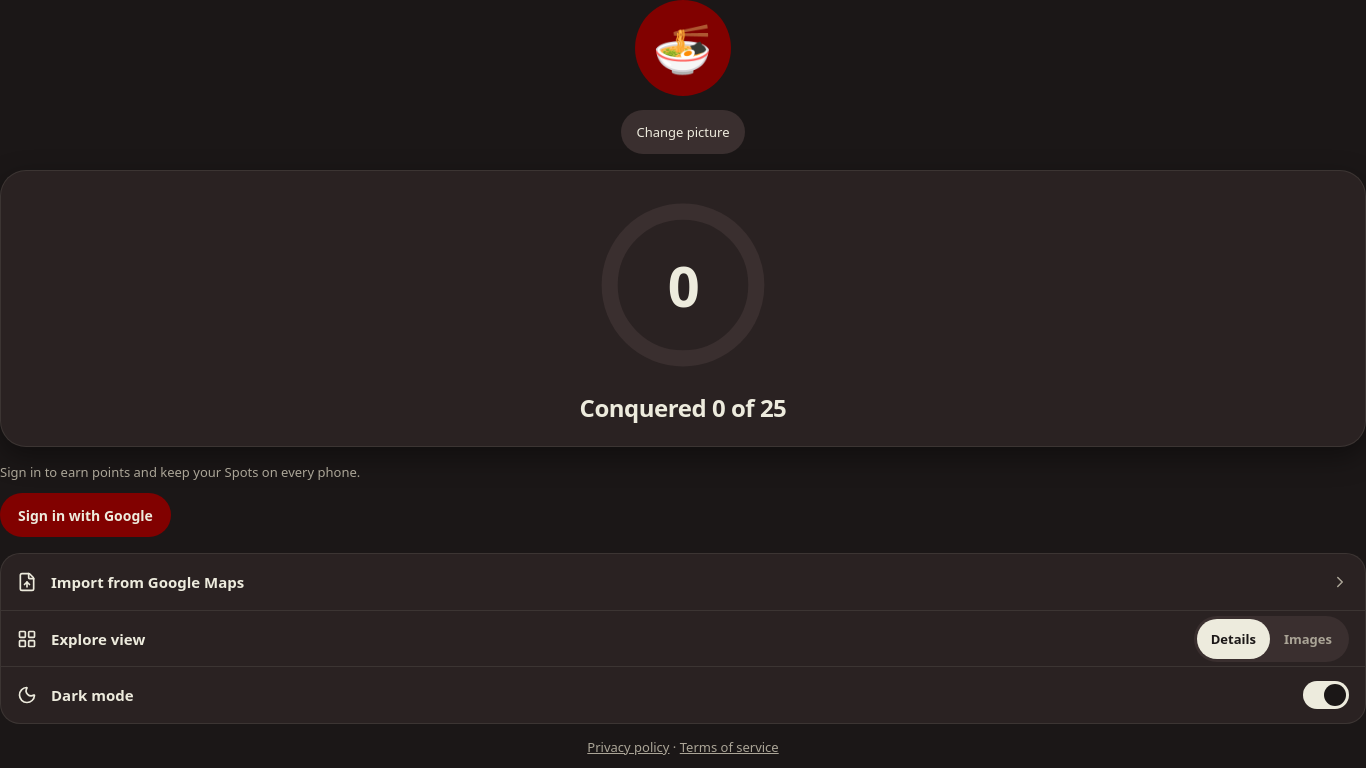
Scenario: the menu card › Dark mode is a switch: on by default, and pressing it turns it off and remembers light
This screenshot has width=1366, height=768.
(page scrolled)
Click the switch labelled "Dark mode" at point(92, 695), box [1, 667, 1365, 723]
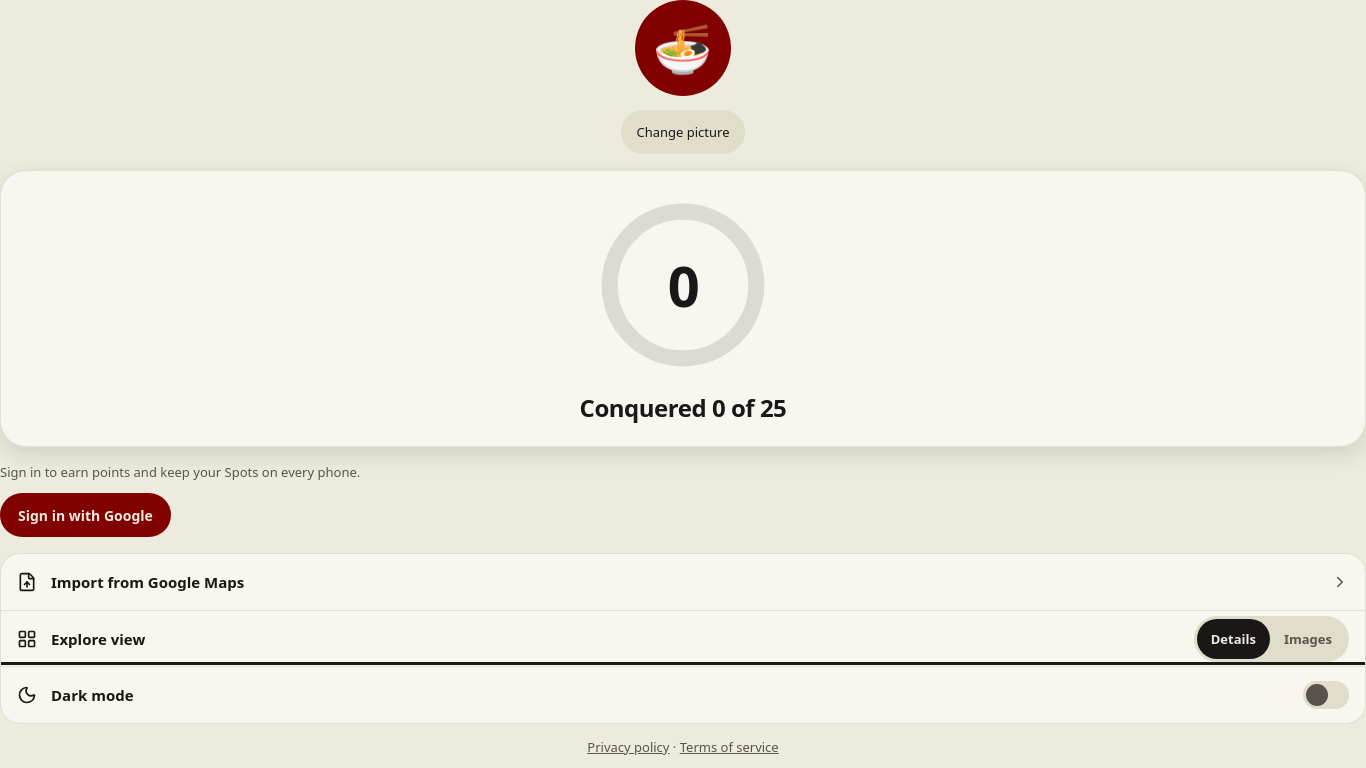
Expected: the switch labelled "Dark mode" is not checked
Click the switch labelled "Dark mode" at point(92, 695), box [1, 667, 1365, 723]
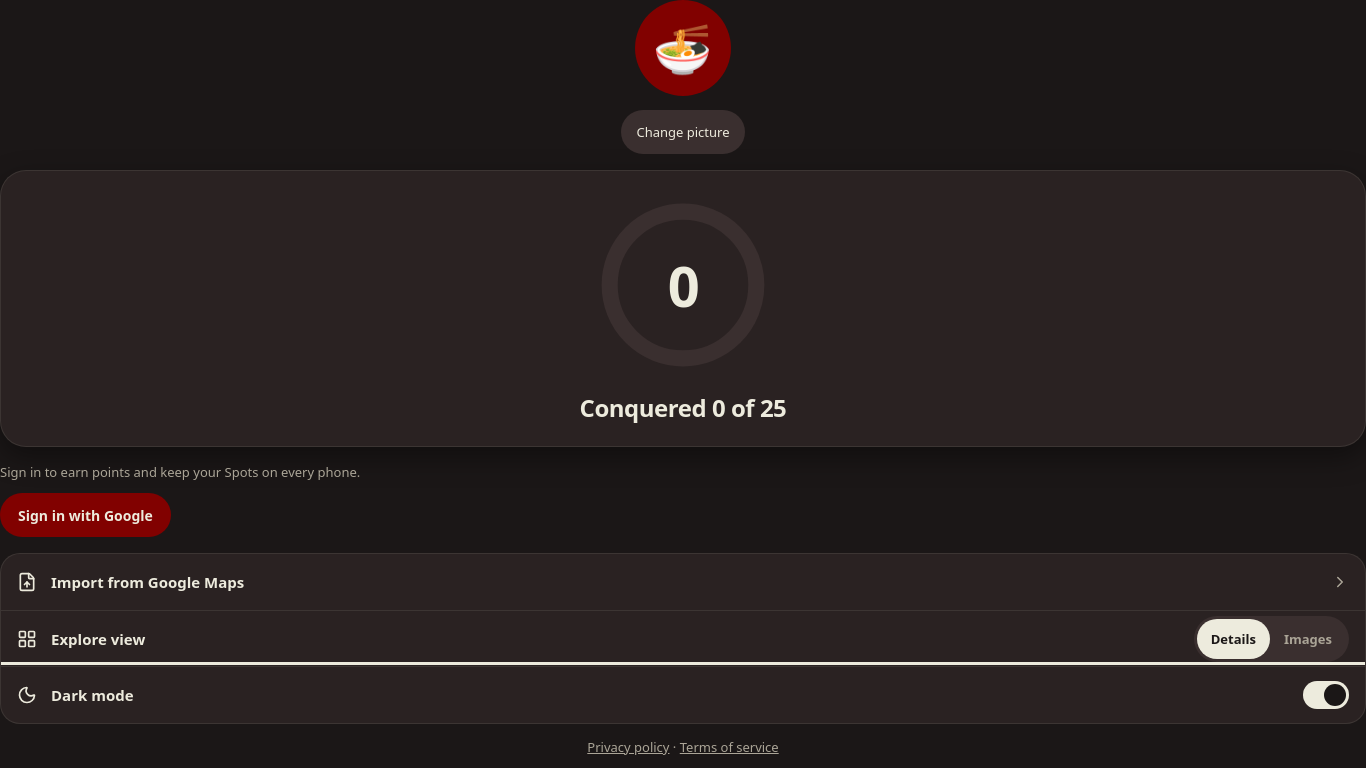
Expected: the switch labelled "Dark mode" is checked, [1, 667, 1365, 723]
